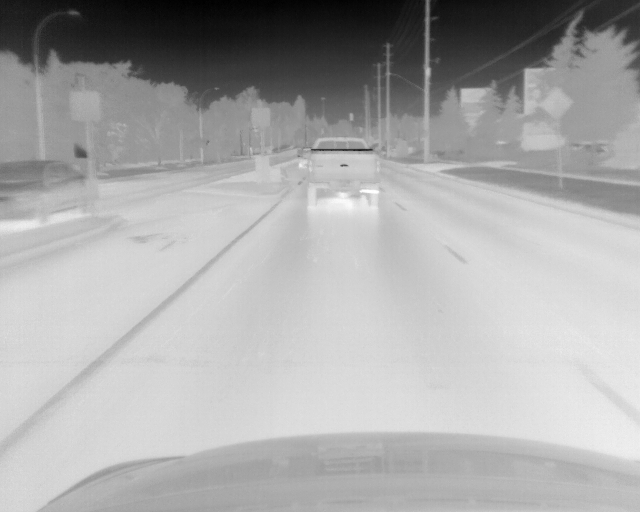car: (1, 161, 97, 223), (305, 136, 381, 209)
